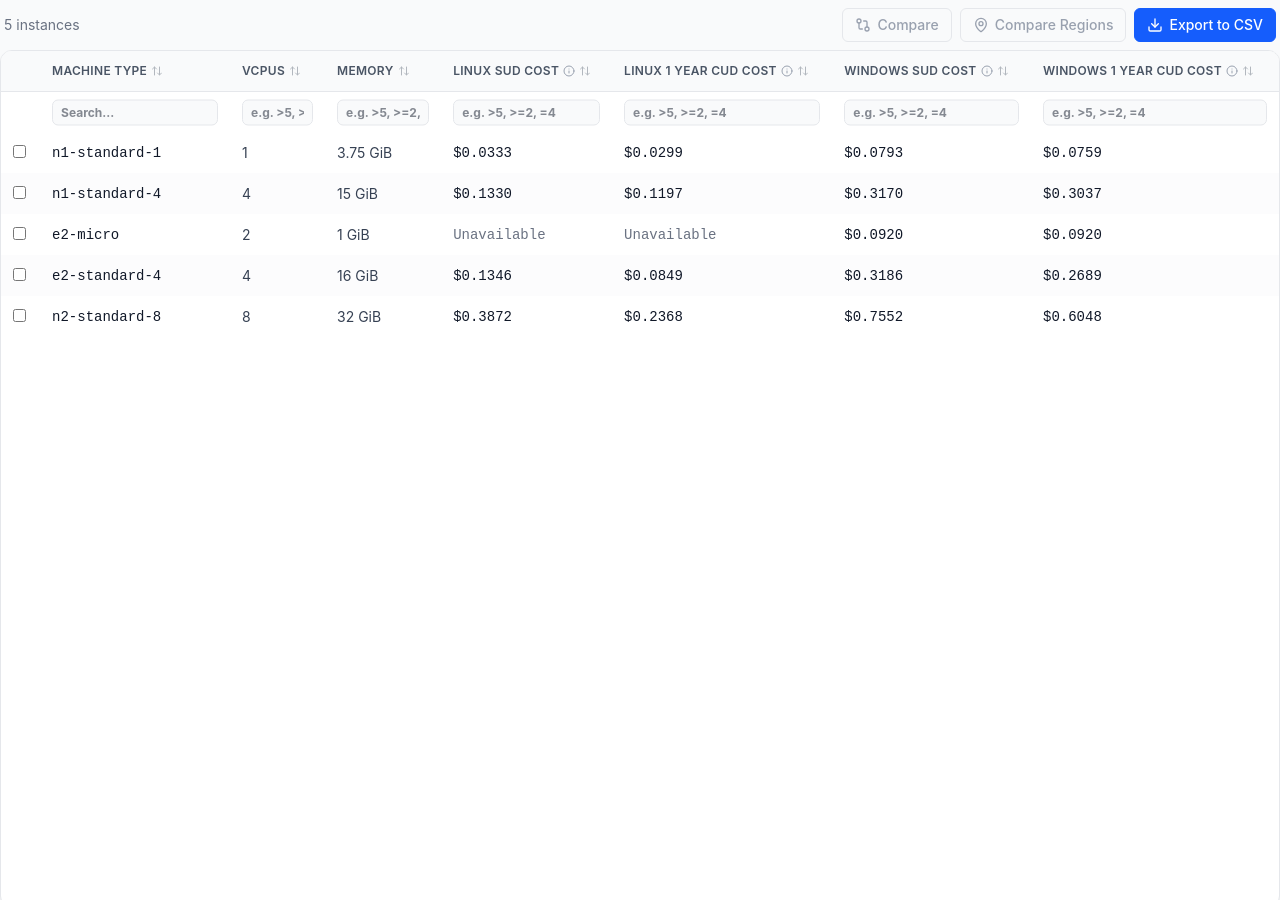
Scenario: PricingTable › per-column filter narrows results
# First search input is for Machine type column
In the field with placeholder "Search...": coordinates (135, 112) top-left (52, 100), bottom-right (218, 126), type "n1-standard-1"
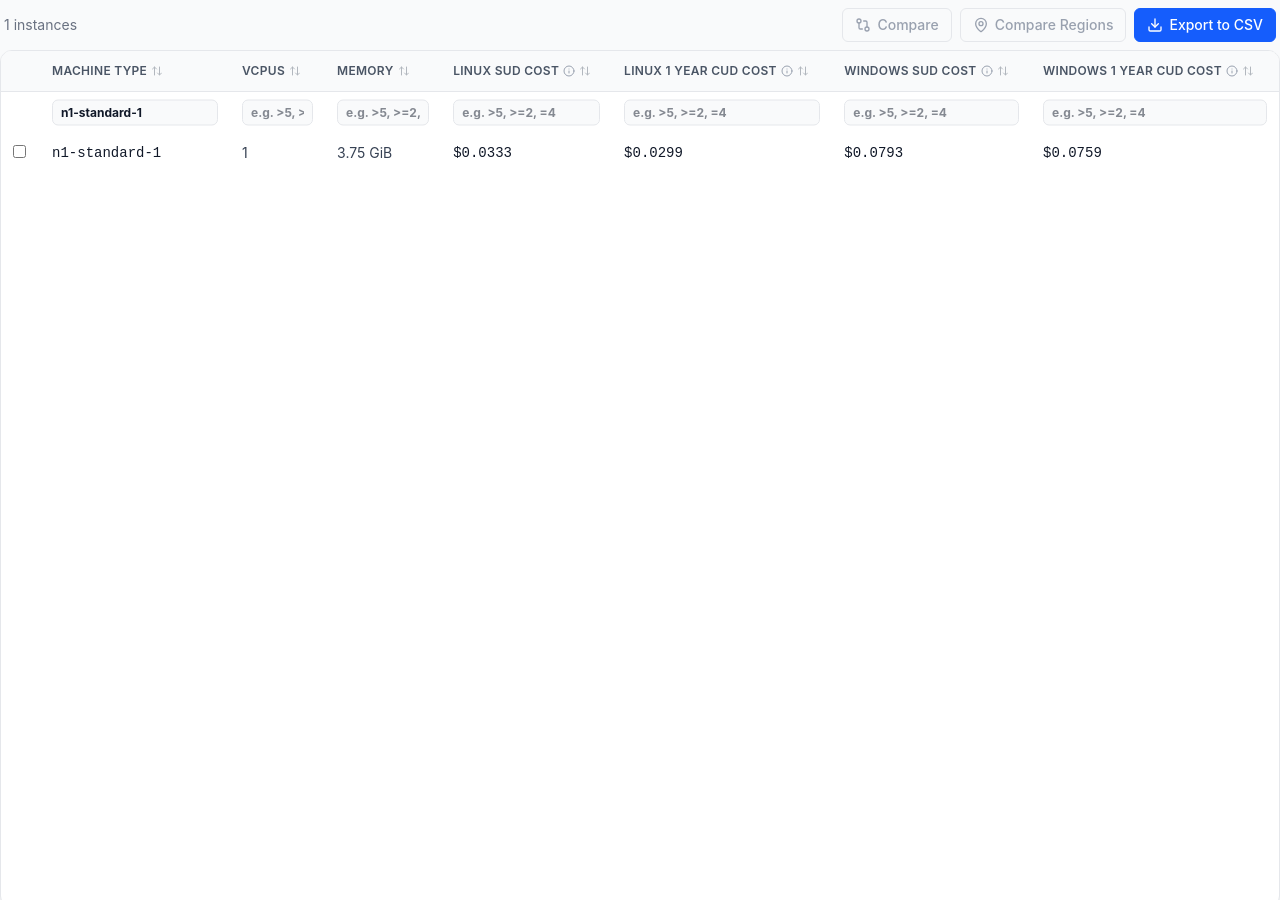
Expected: the text "n1-standard-1" is shown, top-left (52, 145), bottom-right (161, 161)
Expected: the text "n2-standard-8" is gone
